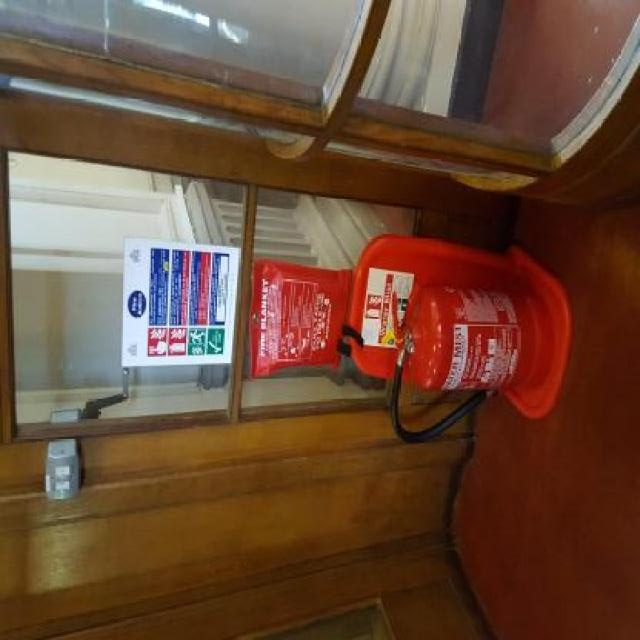fire extinguisher: (391, 279, 554, 446)
